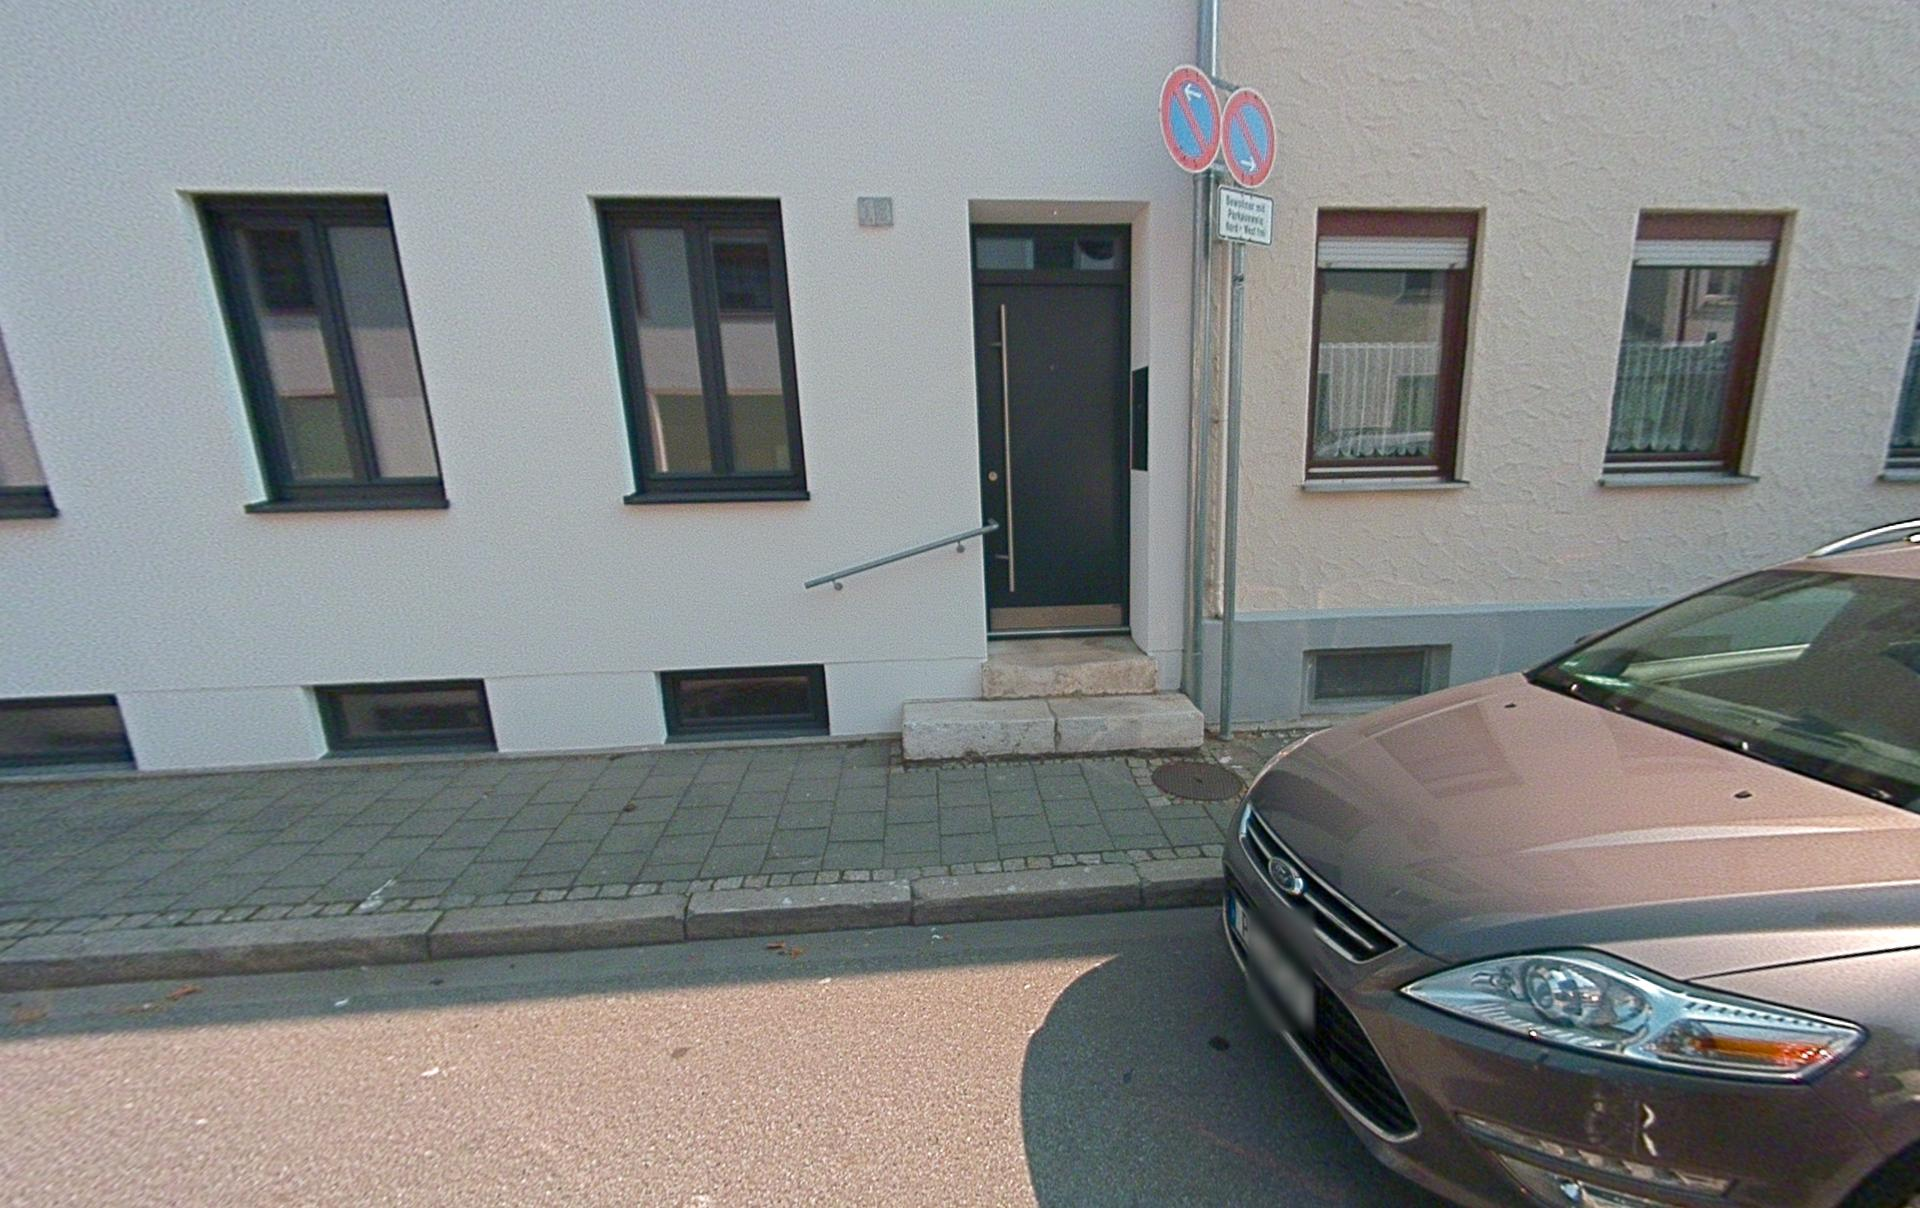car: (1219, 516, 1919, 1207)
traffic sign: (1158, 64, 1223, 174), (1219, 86, 1277, 188), (1213, 185, 1274, 246)
